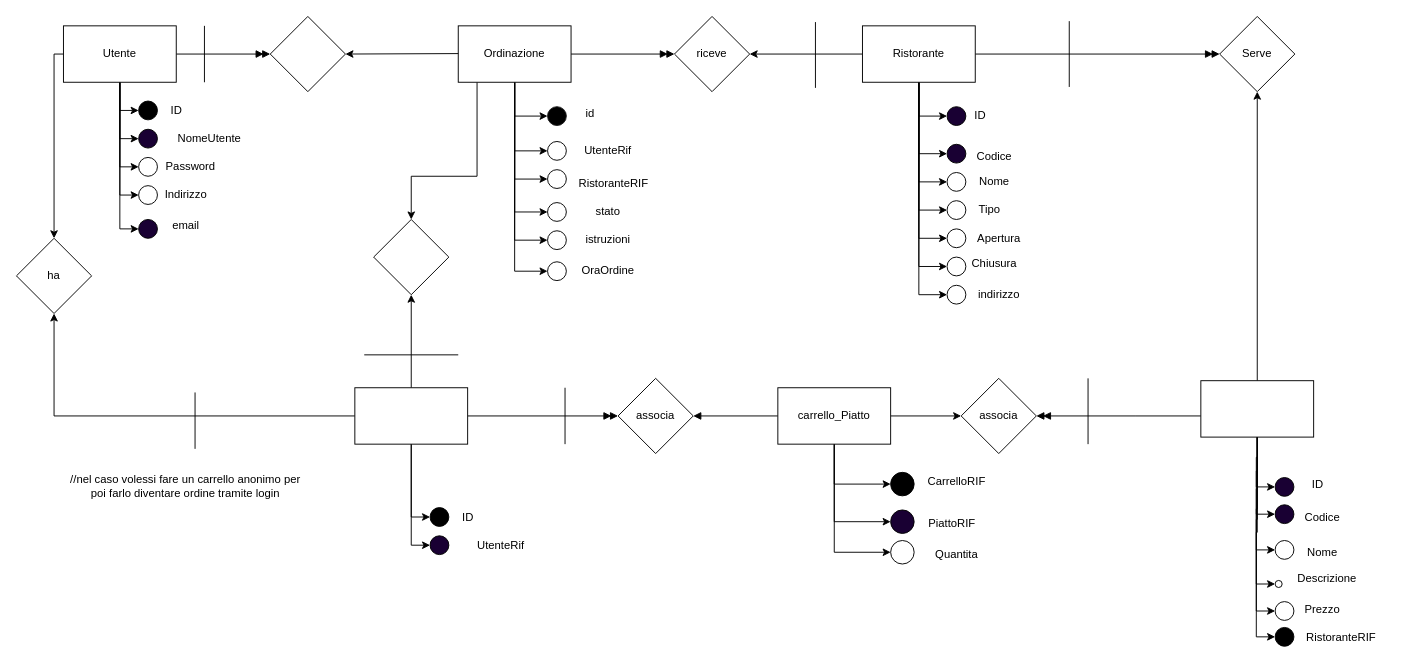
The diagram is 1404 pixels wide and 667 high, and some of its shapes have lost their labels. The centre of each missing label's shape, as x and y in pixels:
carrello: (x=411, y=415)
compone: (x=411, y=257)
effetua: (x=307, y=54)
Piatto: (x=1257, y=408)
